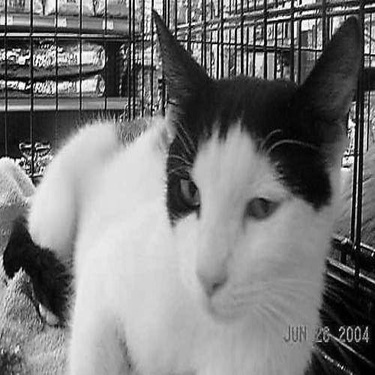cat: (3, 5, 365, 372)
